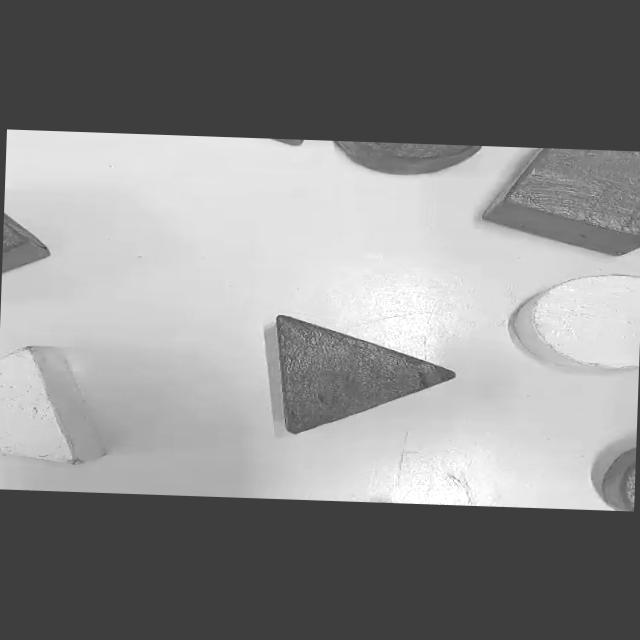btriangle: (268, 314, 456, 439)
rcube: (481, 148, 639, 254)
ycircle: (510, 274, 639, 368)
ytriangle: (0, 343, 112, 466)
